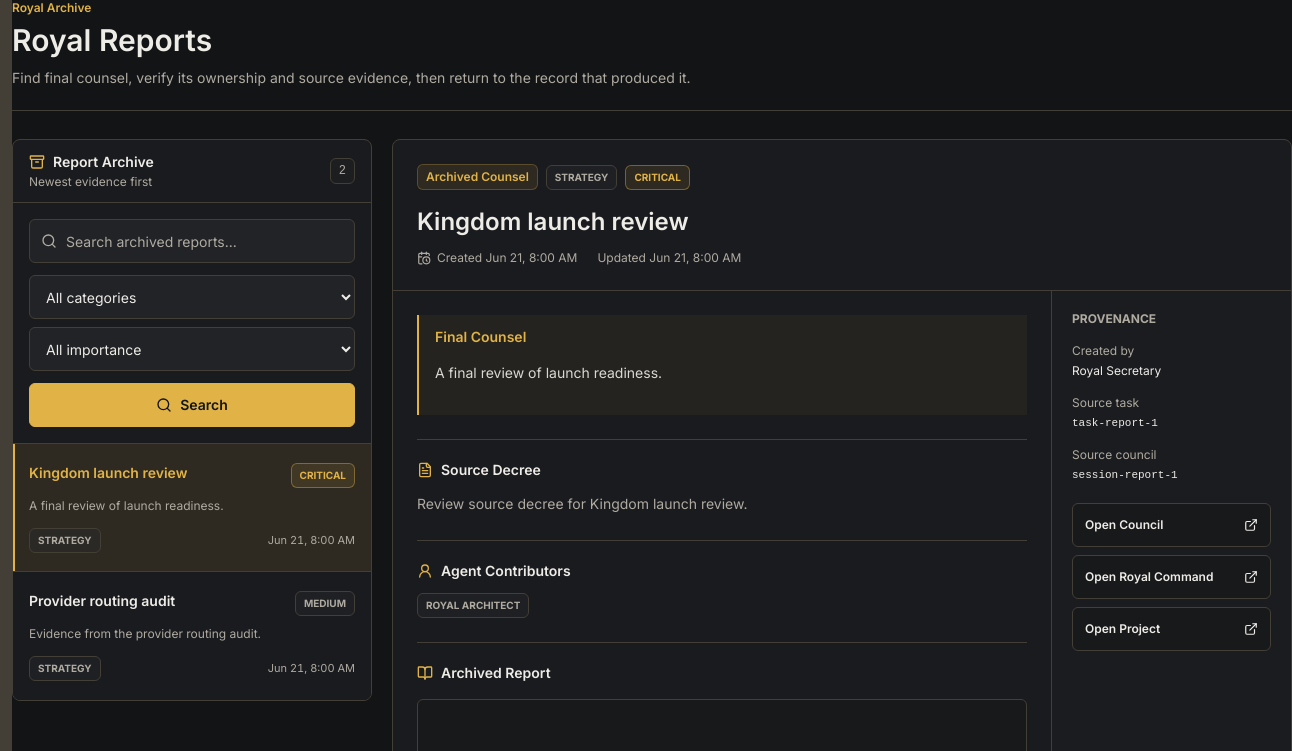
ReportsPage › renders a compact archive and changes the selected reading pane
What coordinates should you click on to do the following:
click the button "Provider routing audit"
I would click on:
 (192, 636)
Its box is [13,572,371,700].
(page scrolled)
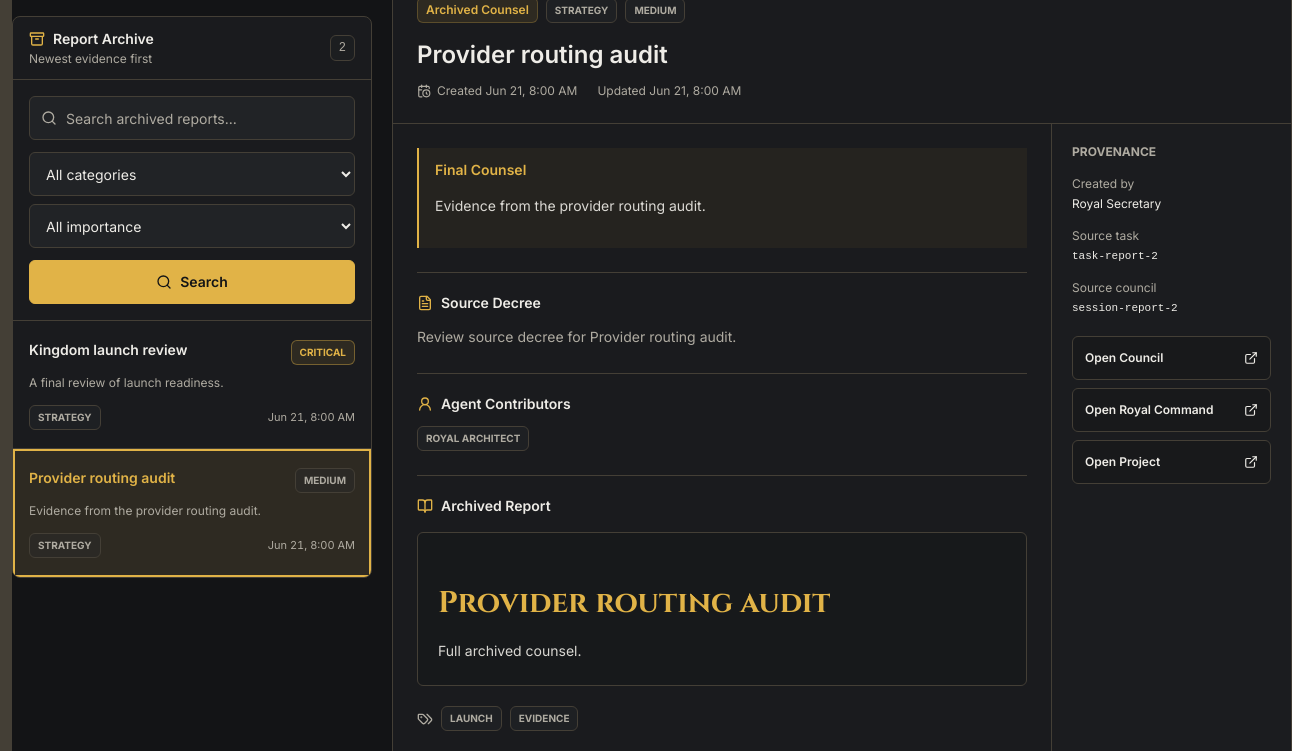
Result: the element with test id "report-detail" shows "Provider routing audit" at [417,40,668,69]
